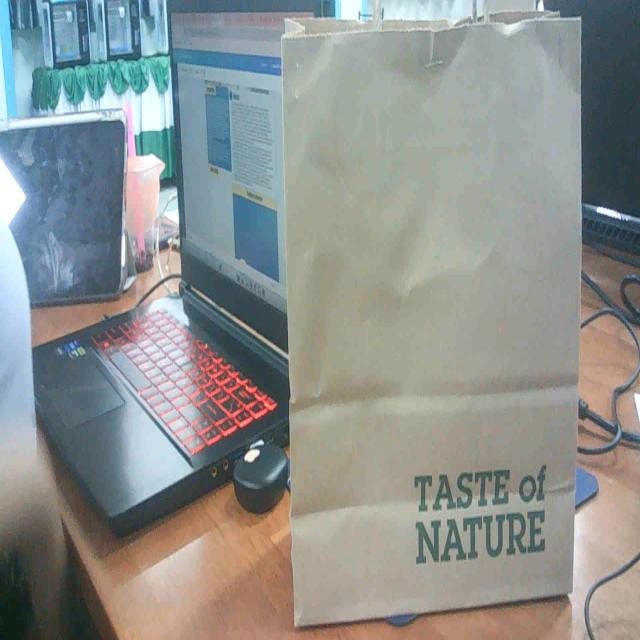bag: (266, 0, 604, 640)
